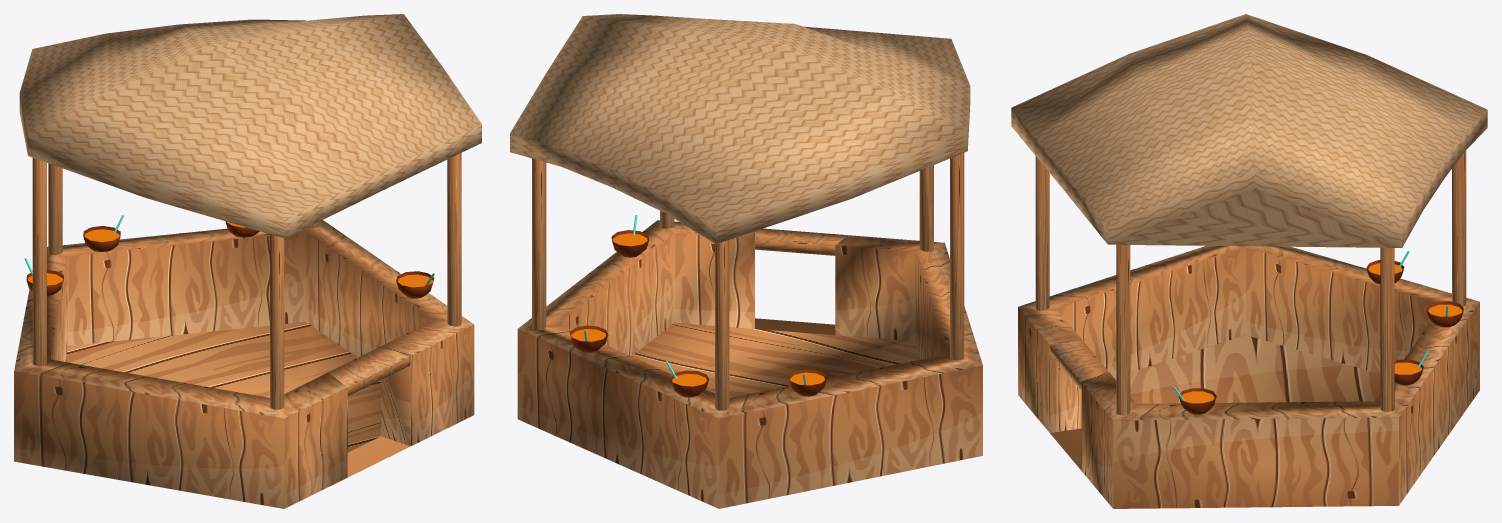
The model's file is quiosque(1).fbx.
The picture shows the model from 3 angles, left to right: view 1: azimuth 30°, elevation 25°; view 2: azimuth 150°, elevation 25°; view 3: azimuth 270°, elevation 25°; orthographic projection. The views are drawn at different scales.
Parts seen in each view (by area): view 1: Cylinder.001; view 2: Cylinder.001; view 3: Cylinder.001.
Boxes of the visible parts, x1,y1,x2,y2 form: Cylinder.001: [14, 14, 481, 508]; Cylinder.001: [510, 14, 982, 508]; Cylinder.001: [1011, 14, 1487, 508].
Size of the model in its own units: 1673 by 1467 by 1777.
Materials: 3 (3 with a texture image).
